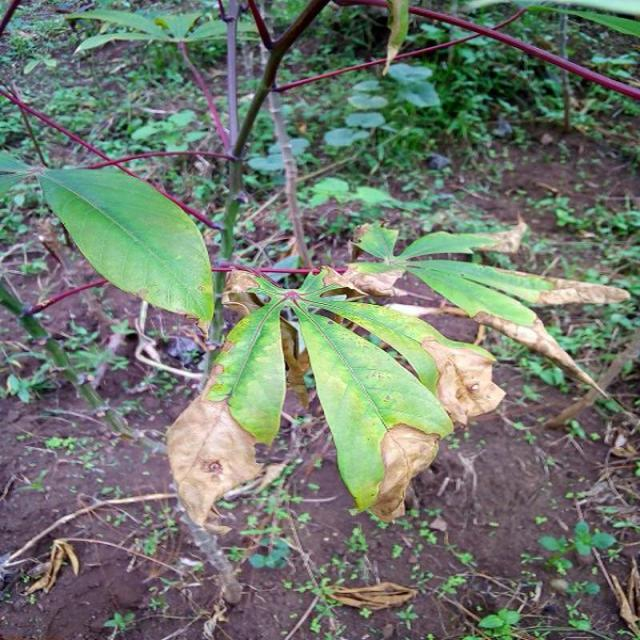cassava leaf: (292, 299, 455, 517), (37, 162, 217, 328), (206, 292, 288, 446)
